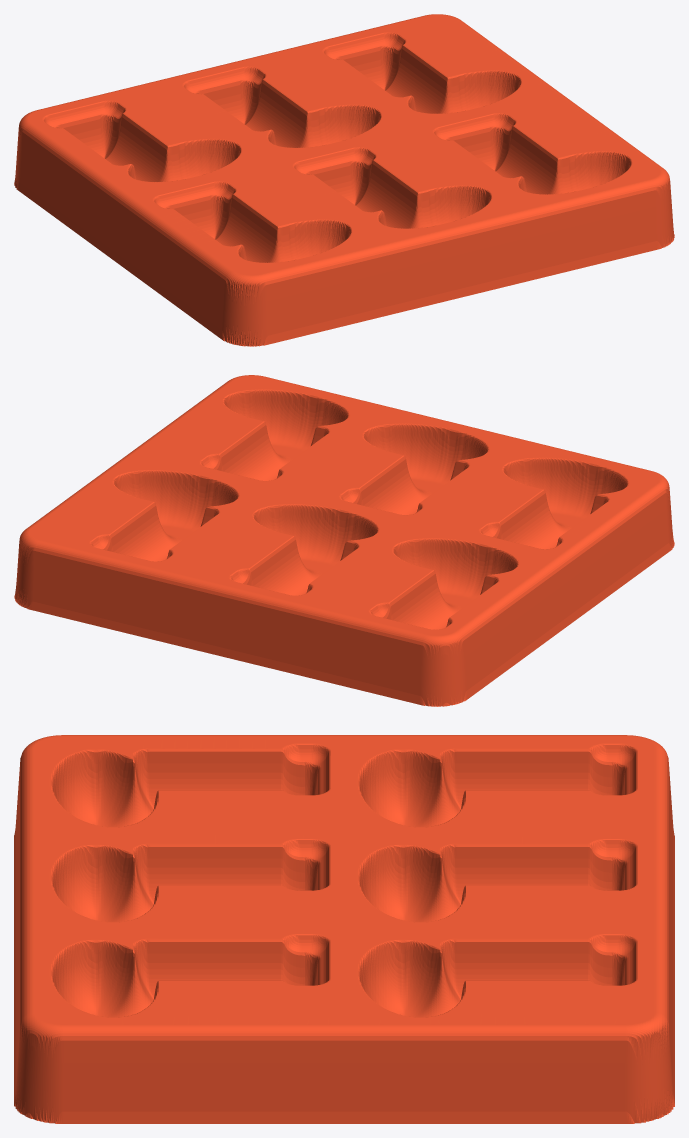
Rendered from mold.glb.
The picture shows the model from 3 angles, top to bottom: view 1: azimuth 30°, elevation 25°; view 2: azimuth 150°, elevation 25°; view 3: azimuth 270°, elevation 25°; orthographic projection. The views are drawn at different scales.
Visible parts, largest first — view 1: geometry_0; view 2: geometry_0; view 3: geometry_0.
Boxes of the visible parts, x1=… form: geometry_0: x1=14, y1=14, x2=674, y2=346; geometry_0: x1=14, y1=375, x2=674, y2=706; geometry_0: x1=14, y1=735, x2=674, y2=1123.
Size of the model in its own units: 0.1335 by 0.0185 by 0.1222.
